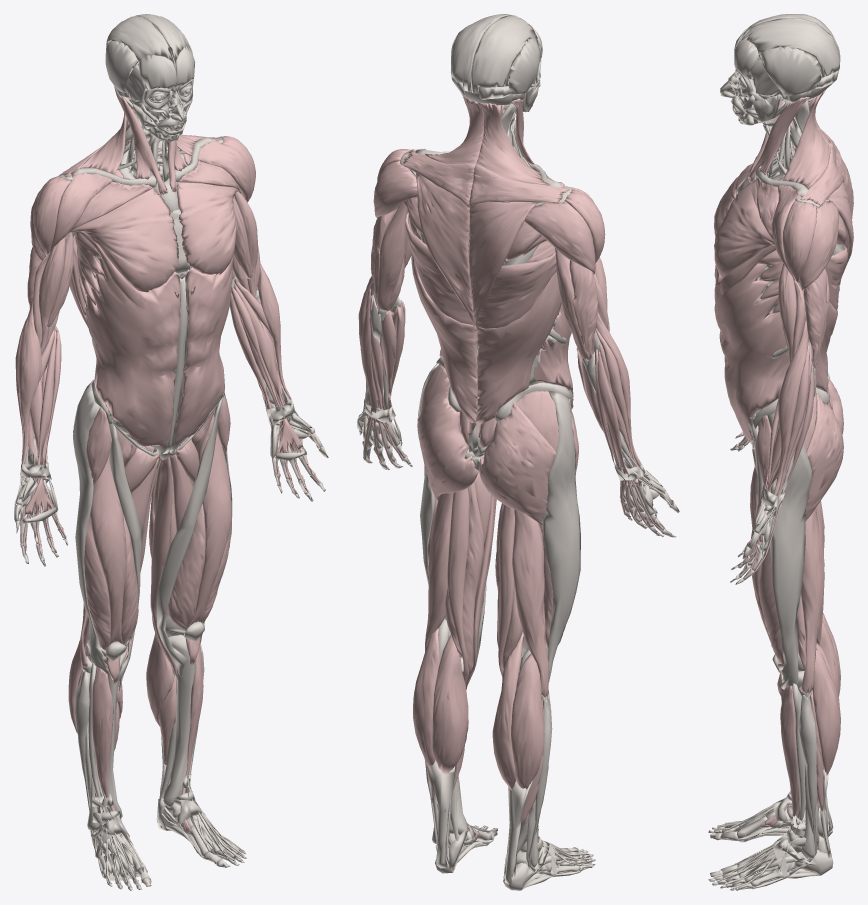
The model's file is body.glb.
3 views of the same model, side by side, from view 1: azimuth 30°, elevation 25°; view 2: azimuth 150°, elevation 25°; view 3: azimuth 270°, elevation 25° (orthographic). The views are drawn at different scales.
Visible parts, largest first — view 1: _ctx_muscles, external_oblique__R, _ctx_skeleton, pec_major_sternocostal__R, external_oblique__L, pec_major_sternocostal__L, forearm_flexors__L, rectus_femoris__R, hip_adductors__L, rectus_femoris__L, forearm_flexors__R, vastus_medialis__L (+25 smaller); view 2: _ctx_muscles, latissimus_dorsi__R, _ctx_skeleton, latissimus_dorsi__L, gluteus_maximus__R, trapezius_upper__L, biceps_femoris__R, trapezius_upper__R, gluteus_maximus__L, gastrocnemius_medial__L, forearm_extensors__R, gastrocnemius_lateral__R (+28 smaller); view 3: _ctx_muscles, external_oblique__L, _ctx_skeleton, pec_major_sternocostal__L, biceps_femoris__L, gluteus_maximus__L, gastrocnemius_lateral__L, trapezius_lower__L, forearm_extensors__L, deltoid_lateral__L, brachioradialis__L, deltoid_posterior__L (+21 smaller).
Boxes of the visible parts, x1,y1,x2,y2 form: _ctx_muscles: (14,14,312,886); external_oblique__R: (86,258,180,447); _ctx_skeleton: (15,106,328,890); pec_major_sternocostal__R: (69,188,178,308); external_oblique__L: (174,263,232,444); pec_major_sternocostal__L: (177,181,237,289); forearm_flexors__L: (229,279,321,493); rectus_femoris__R: (89,434,126,684); hip_adductors__L: (150,437,199,677); rectus_femoris__L: (185,414,231,665); forearm_flexors__R: (19,328,65,557); vastus_medialis__L: (168,504,205,650); _ctx_muscles: (357,14,673,890); latissimus_dorsi__R: (475,252,561,424); _ctx_skeleton: (358,109,679,890); latissimus_dorsi__L: (405,213,477,422); gluteus_maximus__R: (479,403,555,525); trapezius_upper__L: (415,172,476,327); biceps_femoris__R: (512,509,549,697); trapezius_upper__R: (469,201,538,327); gluteus_maximus__L: (417,388,478,501); gastrocnemius_medial__L: (432,634,468,773); forearm_extensors__R: (594,328,665,533); gastrocnemius_lateral__R: (511,653,544,789); _ctx_muscles: (714,14,840,889); external_oblique__L: (714,263,789,442); _ctx_skeleton: (708,99,844,890); pec_major_sternocostal__L: (714,180,775,294); biceps_femoris__L: (797,507,824,694); gluteus_maximus__L: (805,393,843,521); gastrocnemius_lateral__L: (812,649,840,775); trapezius_lower__L: (783,89,830,188); forearm_extensors__L: (751,340,815,574); deltoid_lateral__L: (782,201,817,283); brachioradialis__L: (773,319,808,495); deltoid_posterior__L: (799,201,838,291).
Bounding box in the file's own units: 0.6687 × 1.7 × 0.2672.
